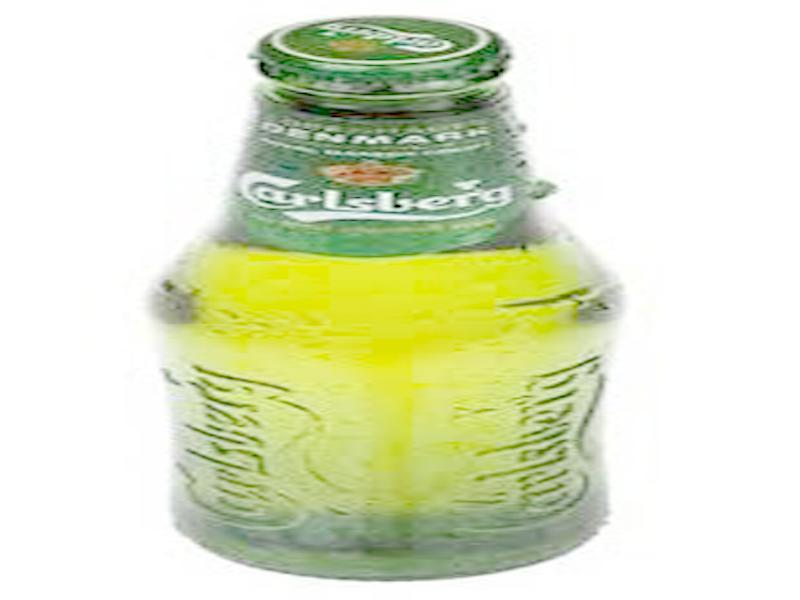Beer: (160, 17, 619, 583)
